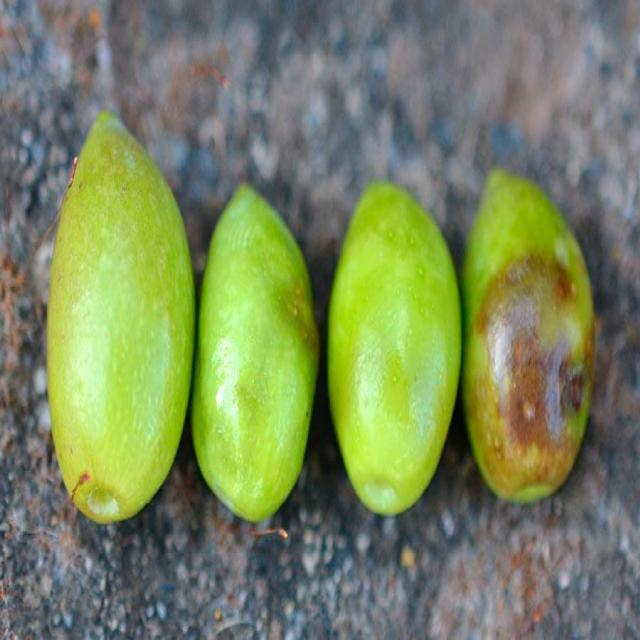Anthracnose: (462, 170, 594, 497)
